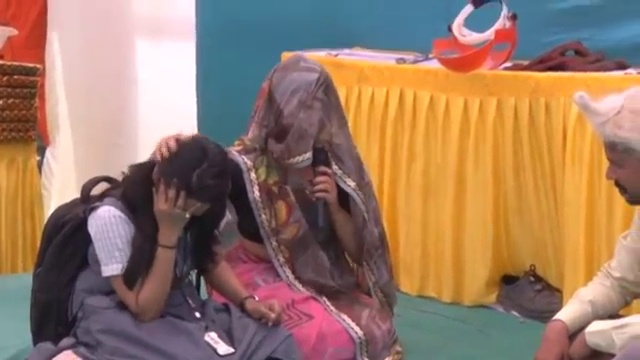helmet_off: (252, 51, 348, 164), (577, 89, 640, 209), (154, 135, 229, 201)
person: (27, 135, 300, 357), (228, 50, 404, 359), (531, 86, 640, 360)
